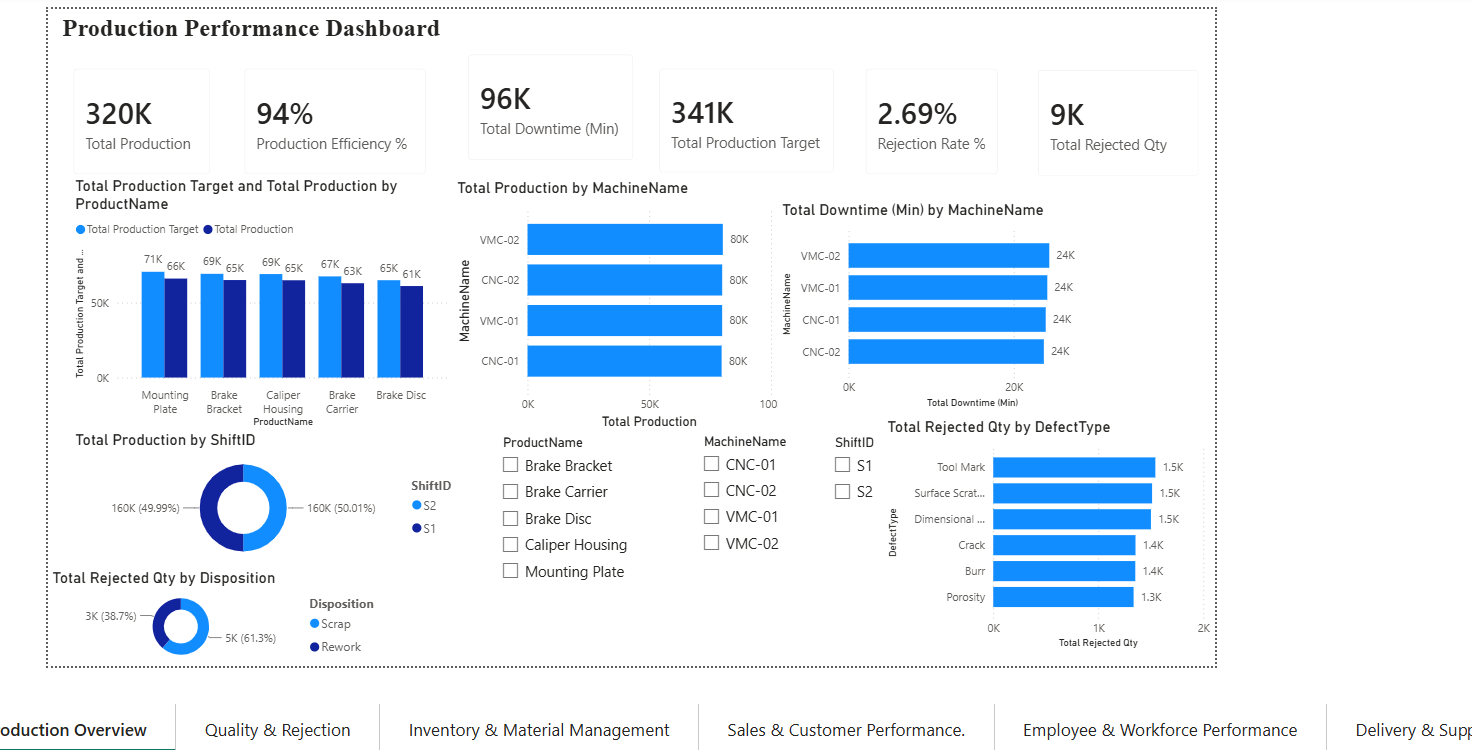

Layout of this report page (visuals, bound fields, positions):
{"tool":"powerbi","page":{"name":"Production Overview","canvas":[1280,720],"ordinal":0},"visuals":[{"type":"textbox","box":[10.3,0,597.7,67],"z":0},{"type":"cardVisual","fields":{"Data":["tblFactProduction.Total Production"]},"box":[10.5,49.1,184,150.7],"z":1000},{"type":"cardVisual","fields":{"Data":["tblFactProduction.Total Production Target"]},"box":[653.8,49.1,226.1,149],"z":2000},{"type":"cardVisual","fields":{"Data":["tblFactProduction.Production Efficiency %"]},"box":[198.1,49.1,233.1,150.7],"z":3000},{"type":"cardVisual","fields":{"Data":["tblFactProduction.Total Downtime (Min)"]},"box":[443.5,33.3,215.6,150.7],"z":4000},{"type":"clusteredColumnChart","fields":{"Category":["tblDimProduct.ProductName"],"Y":["tblFactProduction.Total Production Target","tblFactProduction.Total Production"]},"box":[24.5,184,418.9,278.7],"z":5000},{"type":"clusteredBarChart","fields":{"Category":["tblDimMachine.MachineName"],"Y":["tblFactProduction.Total Production"]},"box":[443.5,185.8,368.1,278.7],"z":6000},{"type":"clusteredBarChart","fields":{"Category":["tblDimMachine.MachineName"],"Y":["tblFactProduction.Total Downtime (Min)"]},"box":[799.3,210.3,364.6,231.4],"z":7000},{"type":"donutChart","fields":{"Category":["tblFactProduction.ShiftID"],"Y":["tblFactProduction.Total Production"]},"box":[24.5,463.2,440.5,150.3],"z":8000},{"type":"slicer","fields":{"Values":["tblDimProduct.ProductName"]},"box":[485.9,463.2,220.2,230.7],"z":9000},{"type":"slicer","fields":{"Values":["tblDimMachine.MachineName"]},"box":[706.2,461.5,127.6,230.7],"z":10000},{"type":"slicer","fields":{"Values":["tblFactProduction.ShiftID"]},"box":[849.5,463.2,103.1,113.6],"z":11000},{"type":"cardVisual","fields":{"Data":["tblFactQuality.Total Rejected Qty"]},"box":[1069.3,50,210.3,150],"z":12000},{"type":"cardVisual","fields":{"Data":["tblFactQuality.Rejection Rate %"]},"box":[879.6,48.5,179.4,150],"z":13000},{"type":"clusteredBarChart","fields":{"Category":["tblDimDefect.DefectType"],"Y":["tblFactQuality.Total Rejected Qty"]},"box":[916.3,448.6,363.3,257.4],"z":14000},{"type":"donutChart","fields":{"Category":["tblFactQuality.Disposition"],"Y":["tblFactQuality.Total Rejected Qty"]},"box":[0,613.3,379.5,107.4],"z":15000}]}

Visuals, with their boxes on the page's 1280x720 design canvas (x1, y1, x2, y2). These are canvas units, not pixel positions in the 1472x750 screenshot, which may show the page scaled, cropped or inside an application window:
textbox: (10, 0, 608, 67)
cardVisual - tblFactProduction.Total Production: (10, 49, 194, 200)
cardVisual - tblFactProduction.Total Production Target: (654, 49, 880, 198)
cardVisual - tblFactProduction.Production Efficiency %: (198, 49, 431, 200)
cardVisual - tblFactProduction.Total Downtime (Min): (444, 33, 659, 184)
clusteredColumnChart - tblDimProduct.ProductName x tblFactProduction.Total Production Target: (24, 184, 443, 463)
clusteredBarChart - tblDimMachine.MachineName x tblFactProduction.Total Production: (444, 186, 812, 464)
clusteredBarChart - tblDimMachine.MachineName x tblFactProduction.Total Downtime (Min): (799, 210, 1164, 442)
donutChart - tblFactProduction.ShiftID x tblFactProduction.Total Production: (24, 463, 465, 614)
slicer - tblDimProduct.ProductName: (486, 463, 706, 694)
slicer - tblDimMachine.MachineName: (706, 462, 834, 692)
slicer - tblFactProduction.ShiftID: (850, 463, 953, 577)
cardVisual - tblFactQuality.Total Rejected Qty: (1069, 50, 1280, 200)
cardVisual - tblFactQuality.Rejection Rate %: (880, 48, 1059, 198)
clusteredBarChart - tblDimDefect.DefectType x tblFactQuality.Total Rejected Qty: (916, 449, 1280, 706)
donutChart - tblFactQuality.Disposition x tblFactQuality.Total Rejected Qty: (0, 613, 380, 721)
